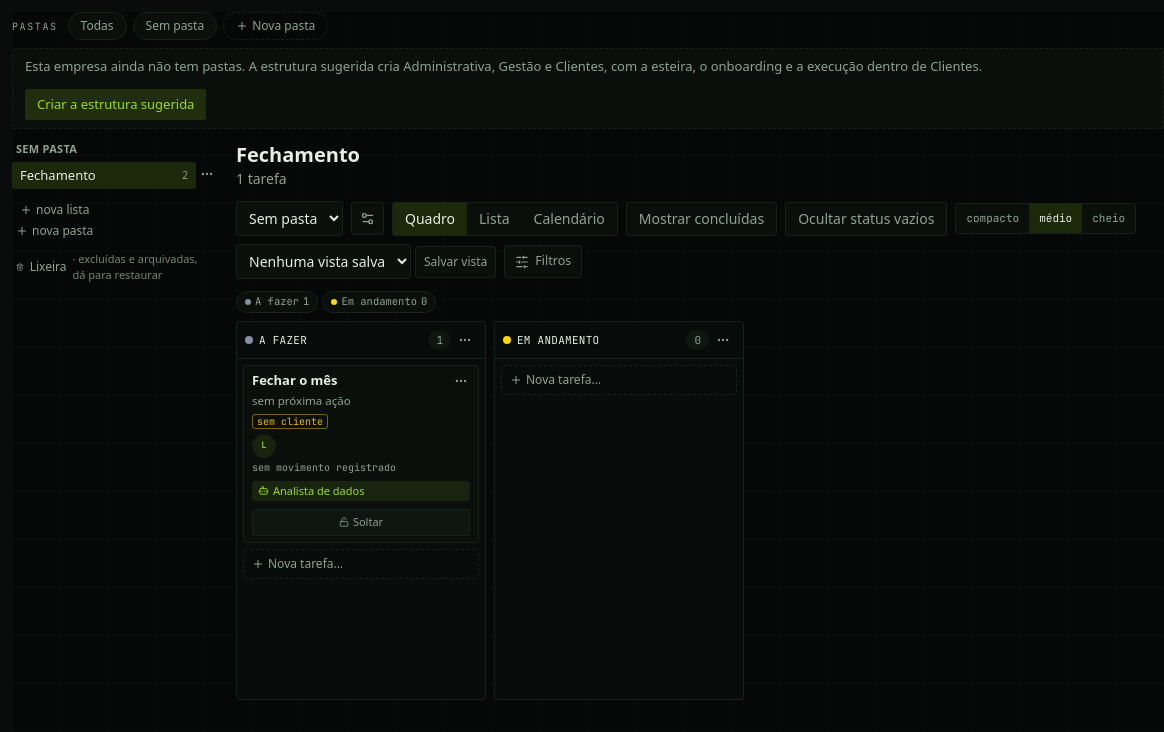
Test: A4: o quadro mostra qual agente está com a tarefa › a tabela tem coluna de Agente SEPARADA da de Responsável
Check: the text "Fechar o mês" is shown, box [252, 372, 338, 390]
Click the button "Lista".
click(494, 218)  # box [467, 202, 522, 234]
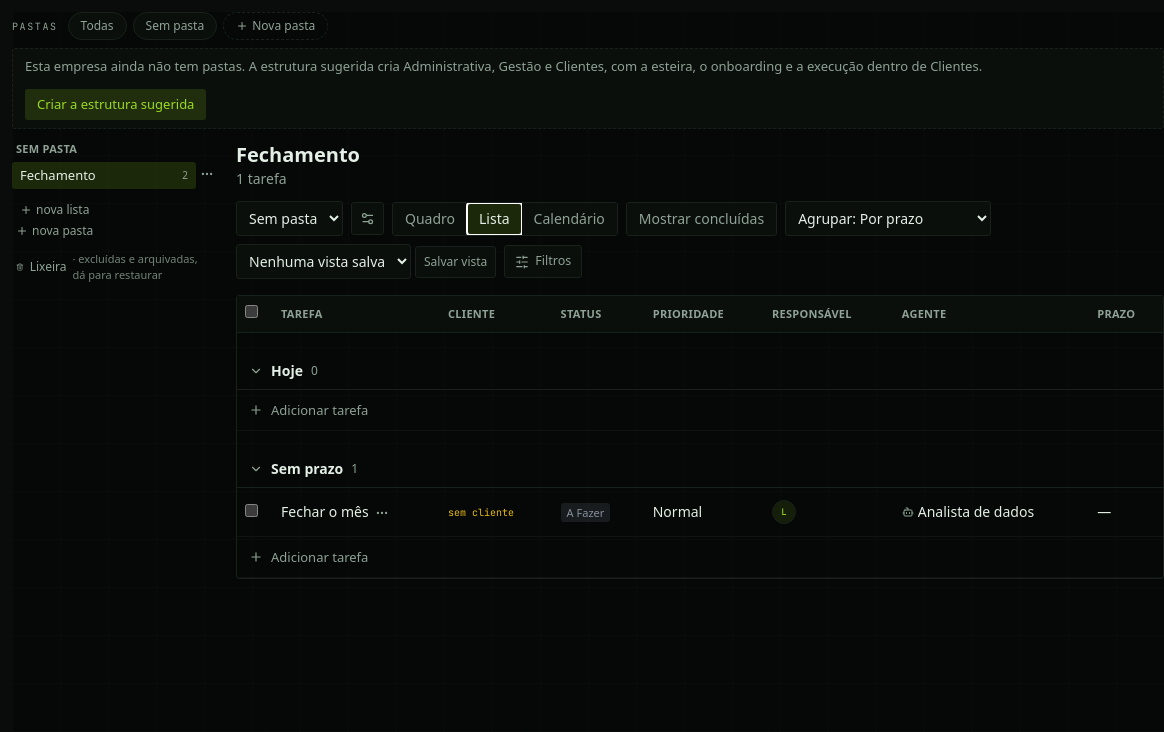
Check: the text "Analista de dados" is shown, box [918, 502, 1034, 522]
Check: the column heading "Responsável" is shown, box [760, 296, 890, 332]
Check: the column heading "Agente" is shown, box [890, 296, 1085, 332]
